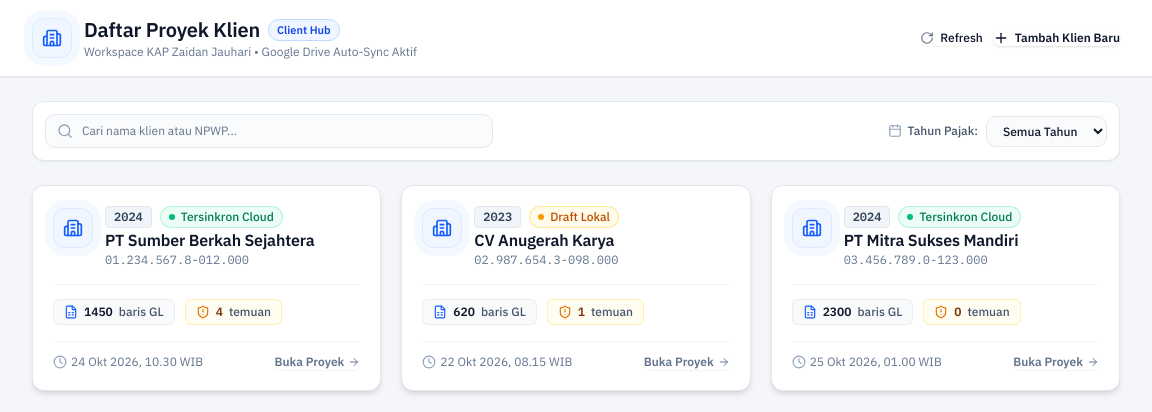
ClientHub Dashboard Component › filters project list by search term (client name or NPWP)
The image size is (1152, 412).
Search by name
In the field with placeholder "Cari nama klien atau NPWP...": [269, 131] box 45,114 -> 493,148, type "Anugerah"
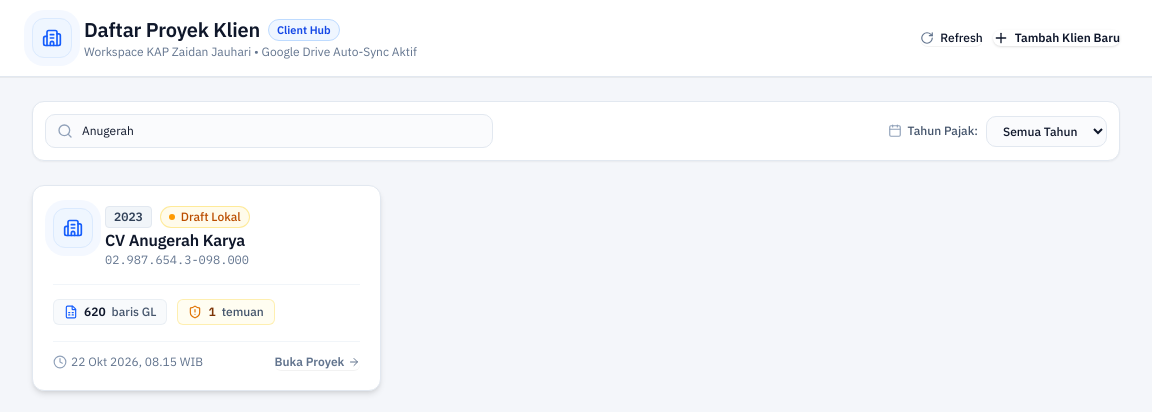
Expected: the heading "CV Anugerah Karya" is shown, 105,230 -> 245,250
Expected: the heading "PT Sumber Berkah Sejahtera" is gone
Expected: the heading "PT Mitra Sukses Mandiri" is gone
Clear search
Clear the field with placeholder "Cari nama klien atau NPWP...": [269, 131] box 45,114 -> 493,148
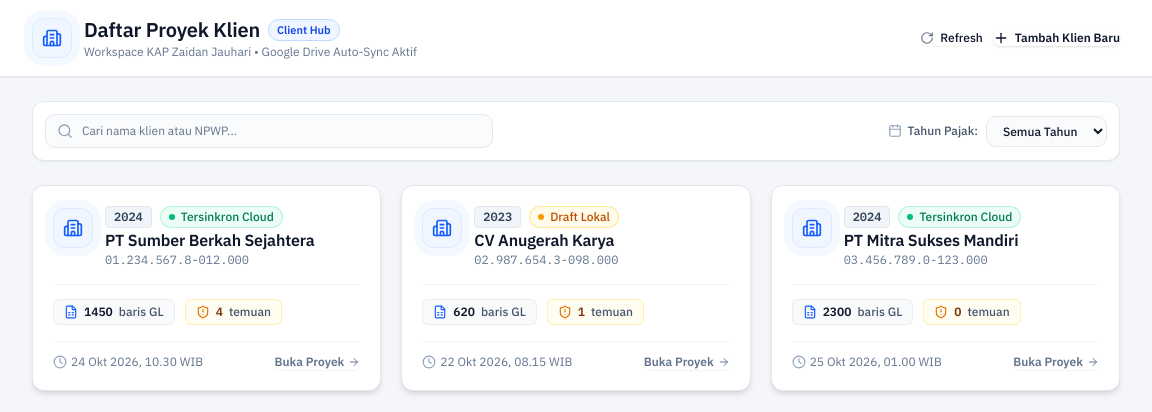
Expected: the heading "CV Anugerah Karya" is shown, 474,230 -> 614,250
Expected: the heading "PT Sumber Berkah Sejahtera" is shown, 105,228 -> 348,252
Search by NPWP substring
In the field with placeholder "Cari nama klien atau NPWP...": [269, 131] box 45,114 -> 493,148, type "987.654"
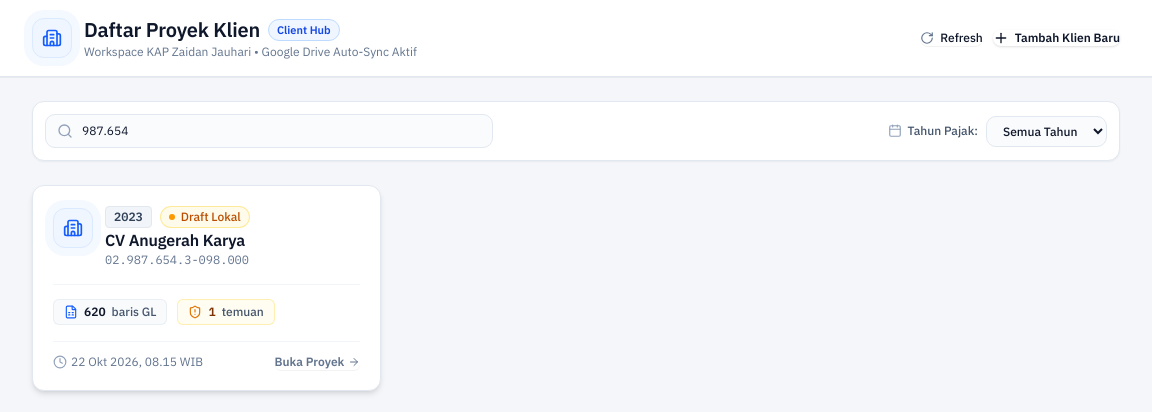
Expected: the heading "CV Anugerah Karya" is shown, 105,230 -> 245,250
Expected: the heading "PT Sumber Berkah Sejahtera" is gone
